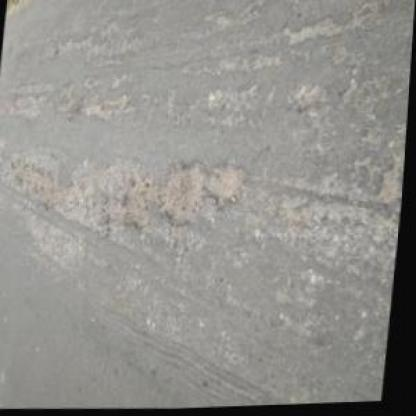pothole: (157, 157, 209, 230), (16, 161, 84, 215), (122, 166, 161, 233), (205, 161, 254, 211), (279, 14, 345, 51), (376, 164, 405, 210), (290, 80, 326, 114)
